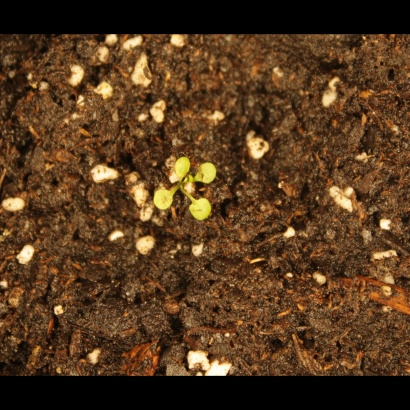leaf: (146, 186, 179, 215), (186, 196, 213, 222), (168, 156, 194, 181), (195, 161, 218, 186)
